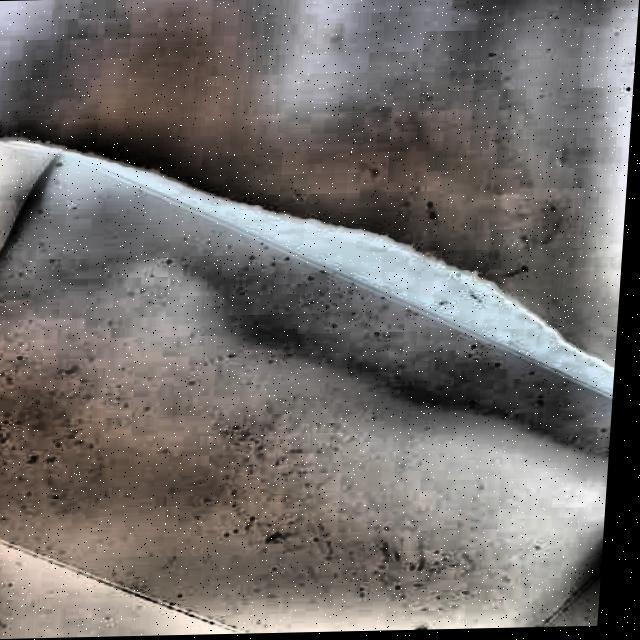paper: (0, 125, 631, 640)
